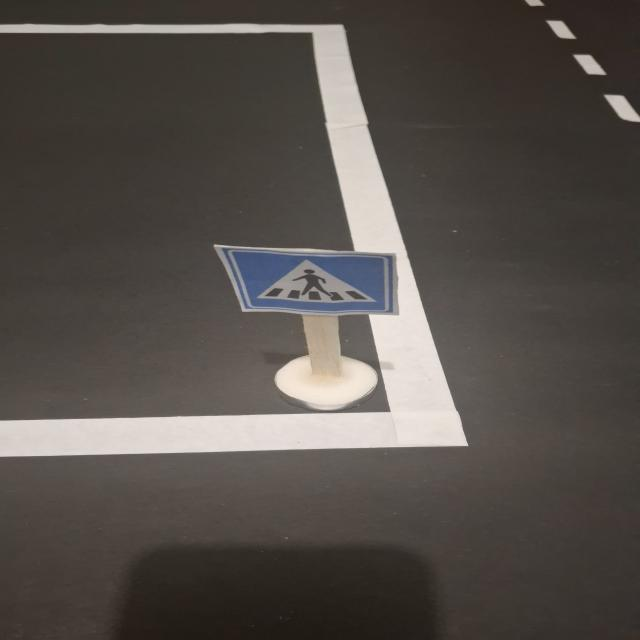Rambu Penyebrangan: (232, 250, 394, 314)
